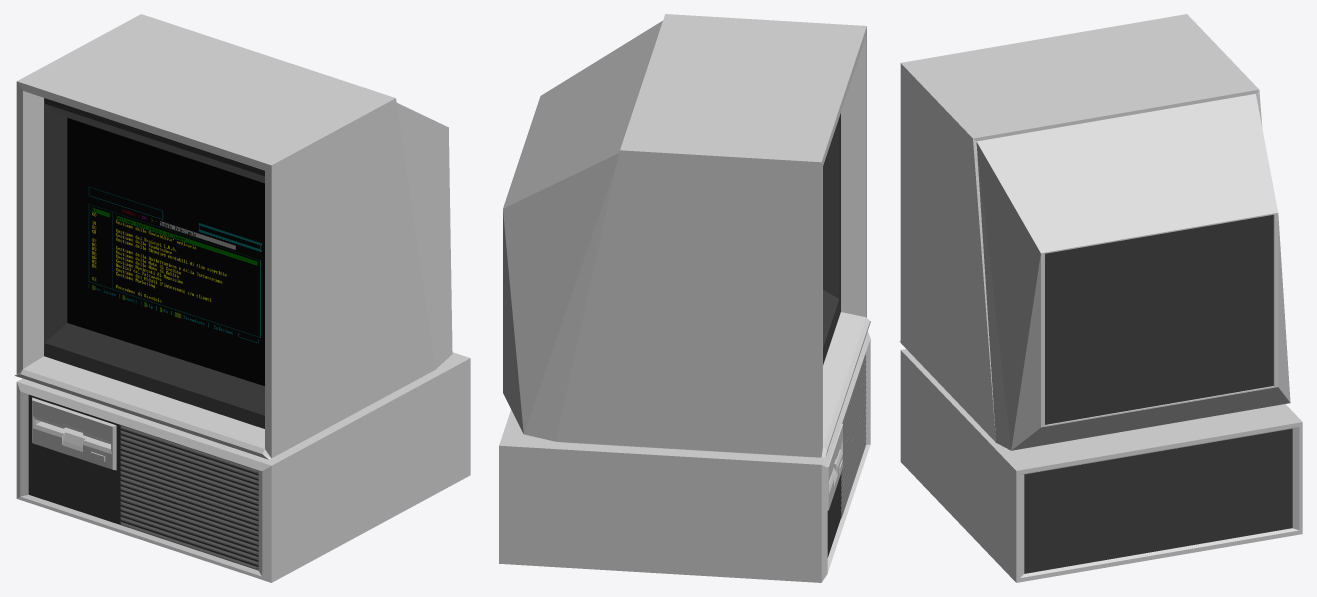
File: paretevetratapc80gltf.gltf
3 renders of one model, left to right at view 1: azimuth 30°, elevation 25°; view 2: azimuth 150°, elevation 25°; view 3: azimuth 270°, elevation 25°, orthographic. The views are drawn at different scales.
Parts seen in each view (by area): view 1: Computer Storia 80; view 2: Computer Storia 80; view 3: Computer Storia 80.
Boxes of the visible parts, x1,y1,x2,y2 form: Computer Storia 80: [14, 14, 470, 582]; Computer Storia 80: [499, 14, 870, 582]; Computer Storia 80: [899, 14, 1302, 582].
Size of the model in its own units: 0.407 by 0.4415 by 0.4048.
4 materials, 1 textured.
